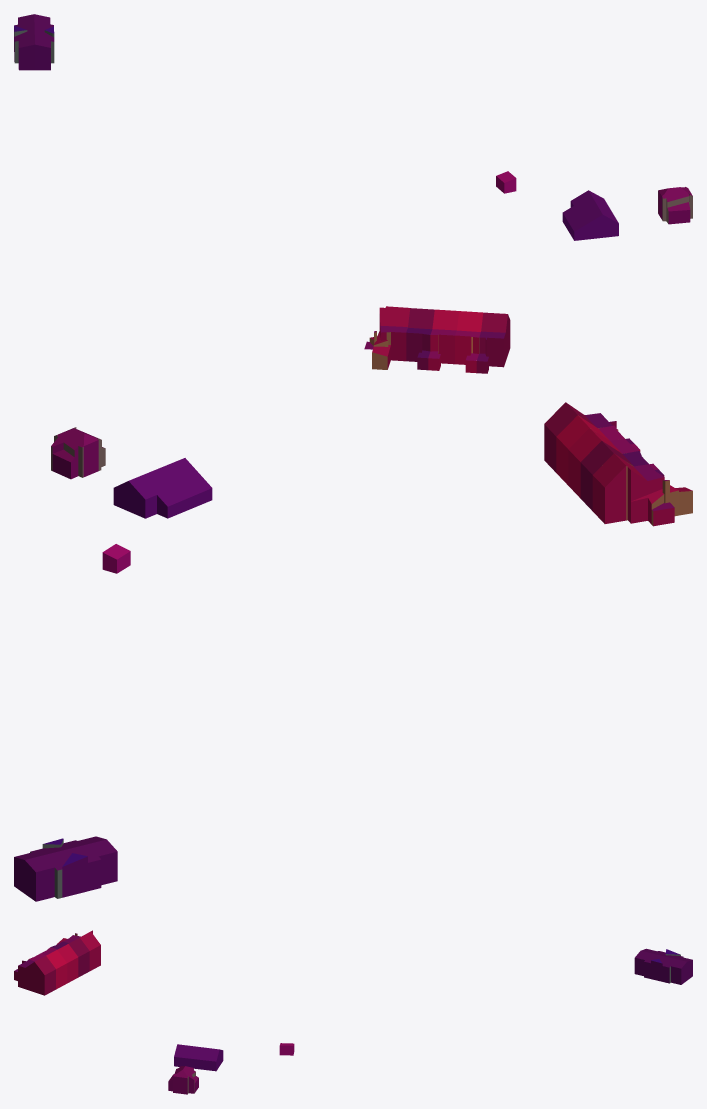
The model's file is buildings_3_12.glb.
3 renders of one model, top to bottom at view 1: azimuth 30°, elevation 25°; view 2: azimuth 150°, elevation 25°; view 3: azimuth 270°, elevation 25°, orthographic. The views are drawn at different scales.
Visible parts, largest first — view 1: buildings_3_12; view 2: buildings_3_12; view 3: buildings_3_12.
Boxes of the visible parts, x1=… form: buildings_3_12: x1=14, y1=14, x2=692, y2=373; buildings_3_12: x1=14, y1=402, x2=692, y2=901; buildings_3_12: x1=14, y1=930, x2=692, y2=1094.
Bounding box in the file's own units: 101 × 10.04 × 201.
